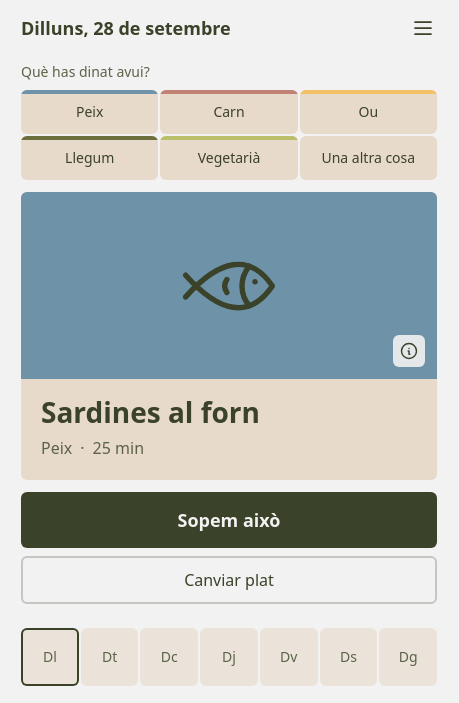
it: TodayScreen › el +info d’un plat confirmat avui diu que és d’avui
expect the heading "Dilluns, 28 de setembre" is shown: met, box x1=21 y1=16 x2=231 y2=40
Click the button "Sopem això".
click(229, 520)  # box x1=21 y1=492 x2=437 y2=548
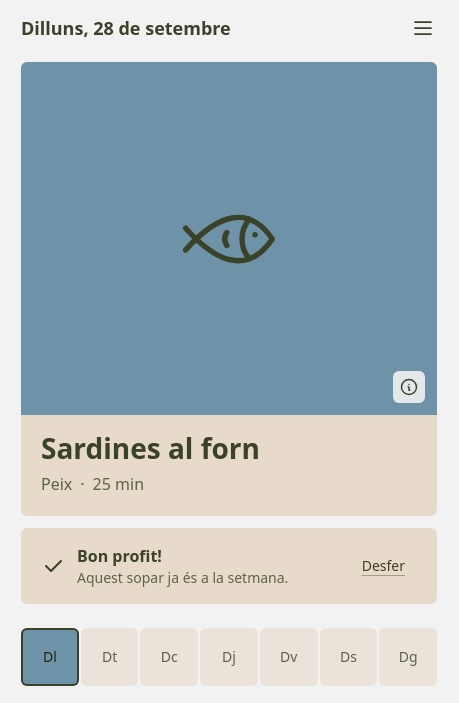
expect the text "Bon profit!" is shown: met, box x1=77 y1=545 x2=162 y2=567
Click the element named "Plat del dia".
click(229, 289)  # box x1=21 y1=62 x2=437 y2=516
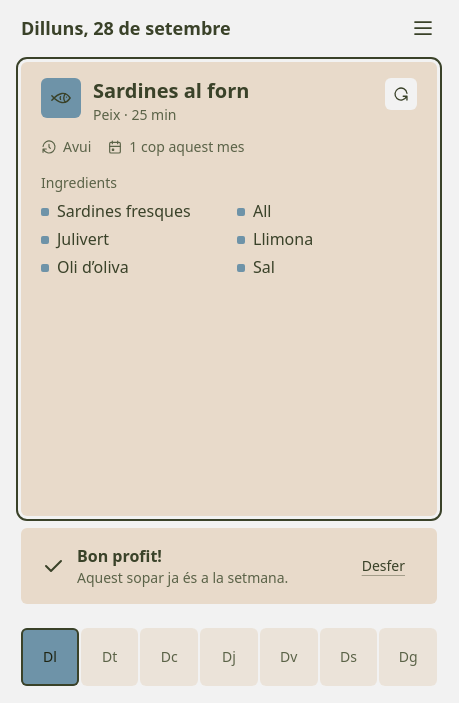
expect the text "Avui" is shown: met, box x1=41 y1=137 x2=91 y2=157
expect the text "1 cop aquest mes" is shown: met, box x1=107 y1=137 x2=244 y2=157
